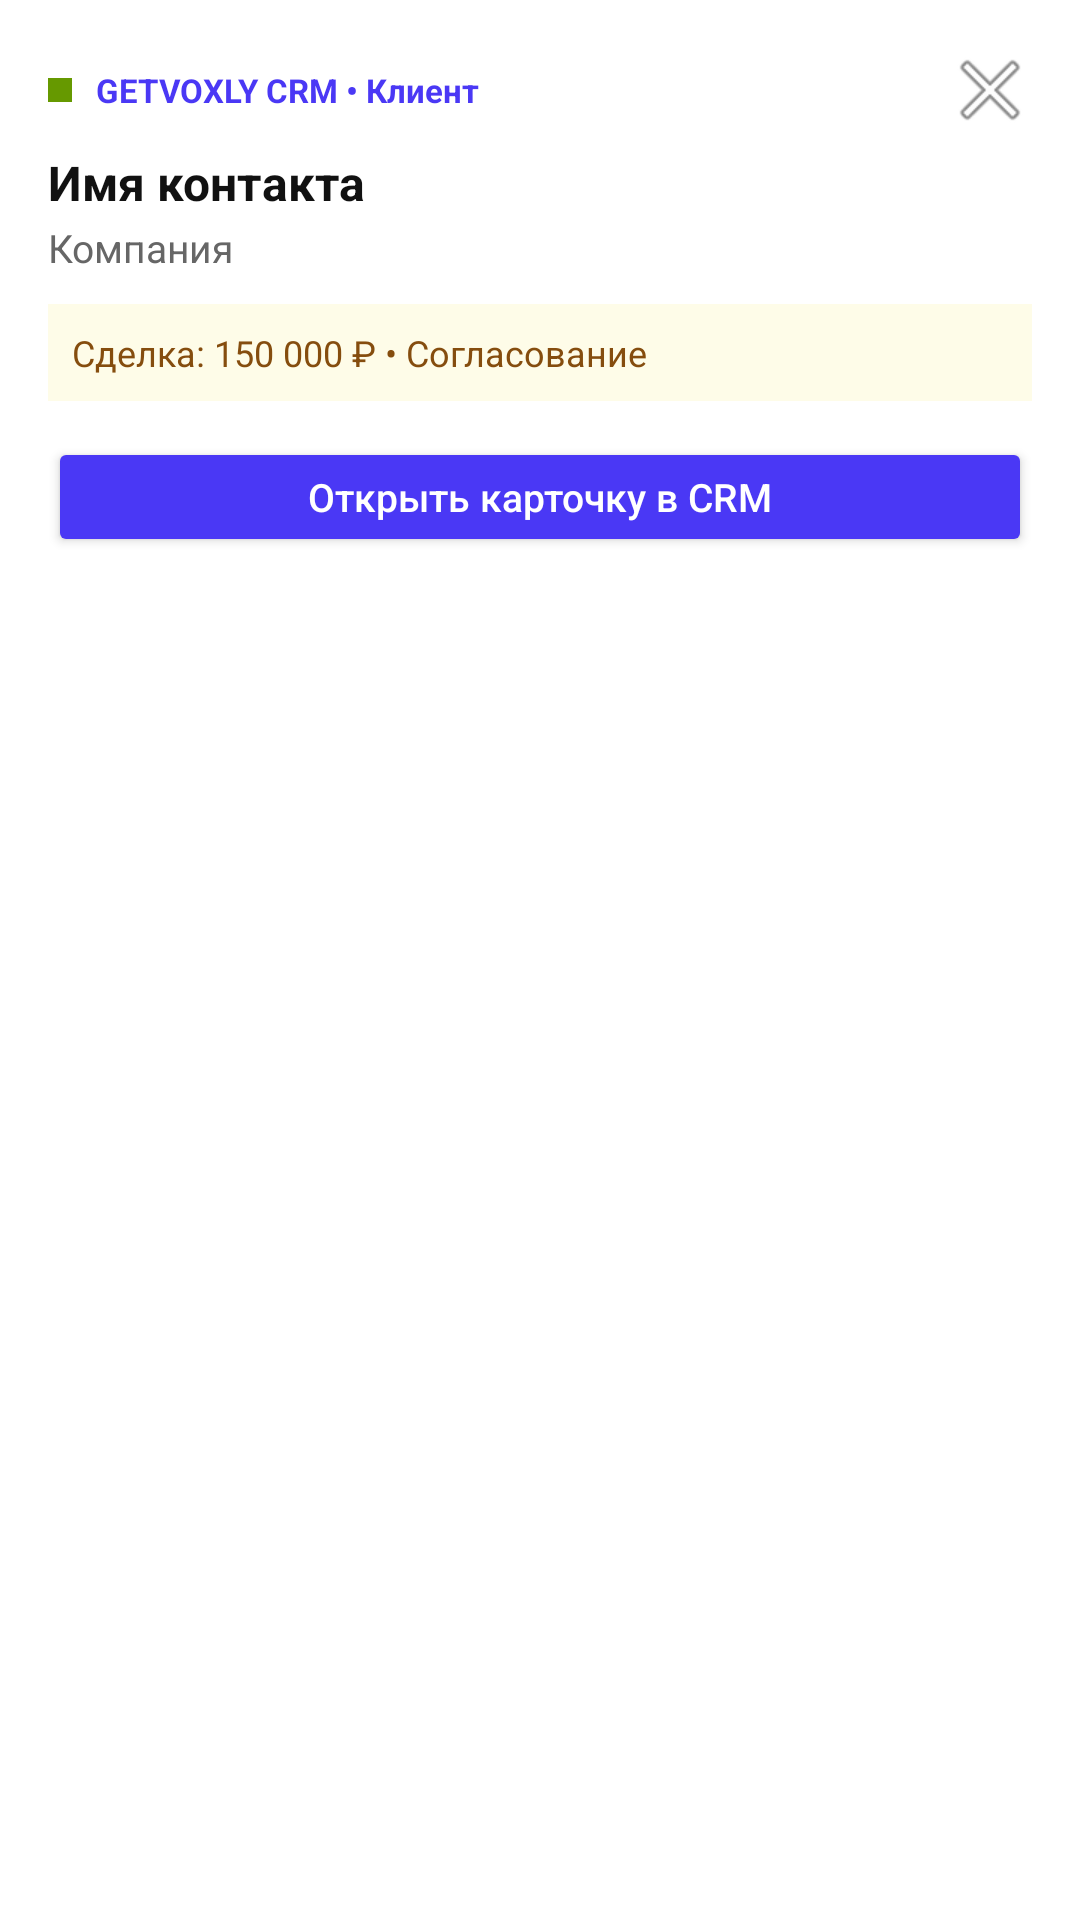

Icon click points for this 1080x1920 phone screenshot, format (x,y):
Закрыть: (990,90)
